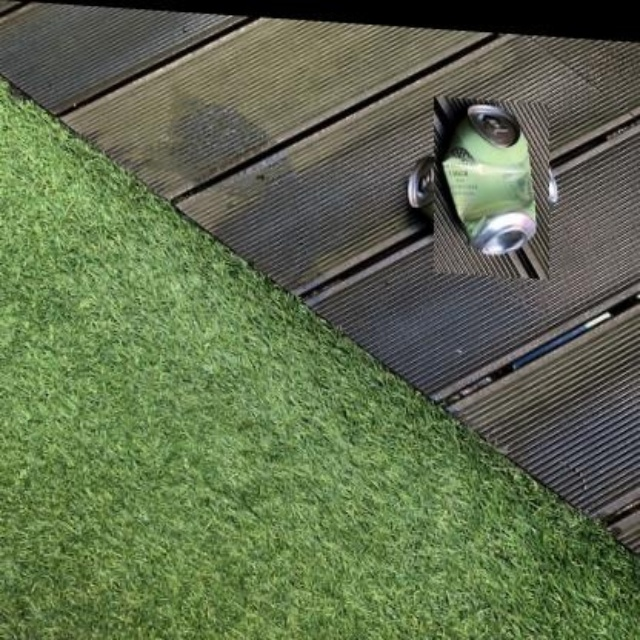trash: (442, 105, 535, 254)
